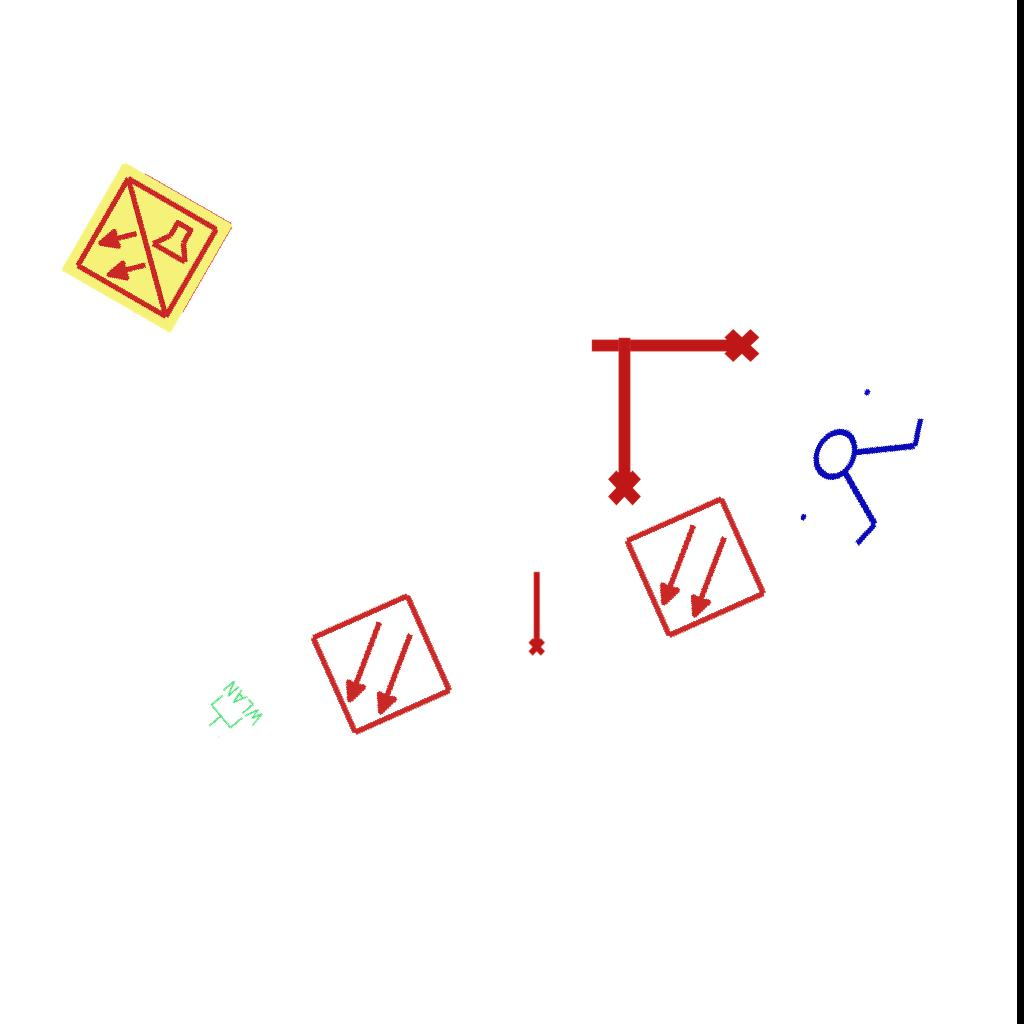ASR_Ansaugoeffnung: (586, 325, 762, 371), (599, 332, 645, 508), (524, 569, 547, 657)
OKW_Multisensormelder_(Kombination_optischer_Rauch-Kahlenmonoxid_Waerme-Melder): (56, 156, 238, 338)
RMO_Rauchmelder_optischer: (306, 589, 457, 740), (620, 492, 771, 643)
Serienschalter: (778, 368, 940, 562)
WLAN: (194, 677, 268, 751)
